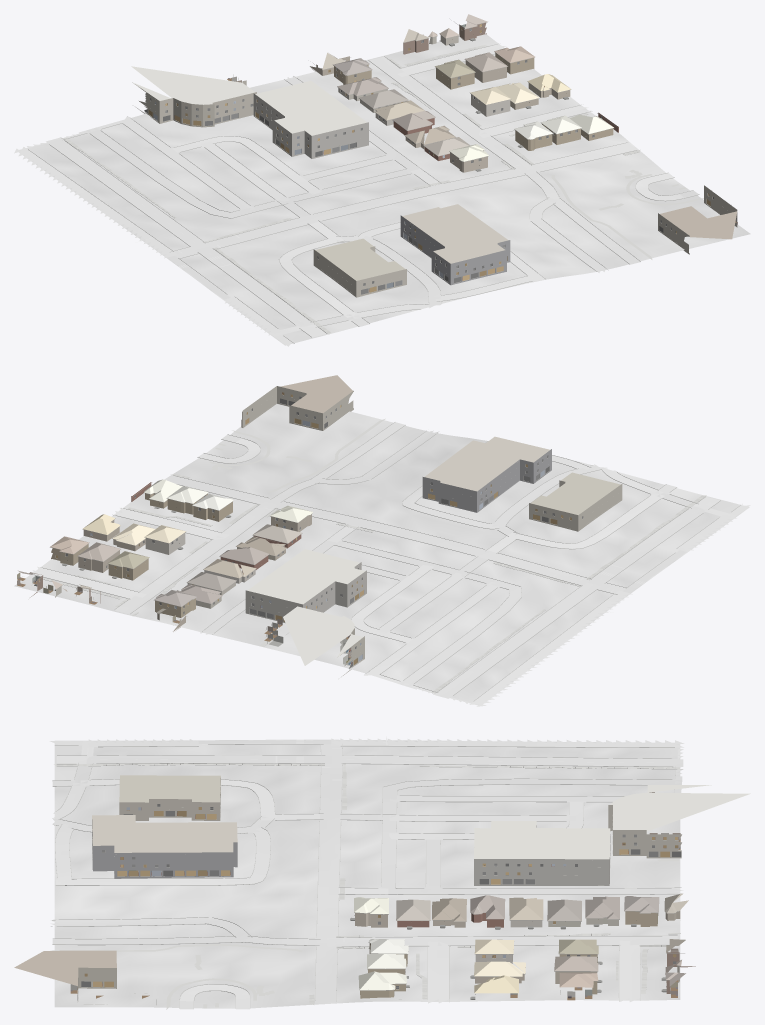
3 renders of one model, top to bottom at view 1: azimuth 30°, elevation 25°; view 2: azimuth 150°, elevation 25°; view 3: azimuth 270°, elevation 25°, orthographic. The views are drawn at different scales.
Visible parts, largest first — view 1: ground, concrete, roof_flat, wall_com, roof, asphalt, curb, wall, walk, detail, wall_stucco, glass (+1 smaller); view 2: ground, concrete, roof_flat, wall_com, roof, asphalt, curb, wall, walk, detail, wall_stucco, room (+2 smaller); view 3: ground, concrete, roof_flat, roof, wall_com, curb, asphalt, walk, wall, detail, wall_stucco, glass_lit (+4 smaller).
Part boxes in pixels (x1,y1,x2,y2): ground: (19,33,750,345); concrete: (61,45,698,326); roof_flat: (131,66,737,280); wall_com: (135,80,737,297); roof: (322,14,613,161); asphalt: (14,137,326,346); curb: (28,43,699,343); wall: (310,22,618,160); walk: (62,45,703,334); detail: (144,22,713,294); wall_stucco: (338,35,510,172); glass: (144,28,713,294); ground: (14,404,749,705); concrete: (32,422,696,694); roof_flat: (247,375,620,665); wall_com: (241,386,622,676); roof: (18,479,312,614); asphalt: (434,496,750,706); curb: (32,422,740,701); wall: (30,482,301,631); walk: (43,418,706,693); detail: (22,394,582,667); wall_stucco: (55,514,311,608); room: (17,392,556,665); ground: (54,739,680,1008); concrete: (50,740,683,1009); roof_flat: (14,775,750,985); roof: (354,893,688,993); wall_com: (78,778,681,988); curb: (51,744,682,1008); asphalt: (49,738,684,766); walk: (50,763,680,1009); wall: (360,910,695,998); detail: (77,783,684,1004); wall_stucco: (355,913,680,982); glass_lit: (77,807,677,989).
Size of the model in its own units: 258 by 15.67 by 295.
